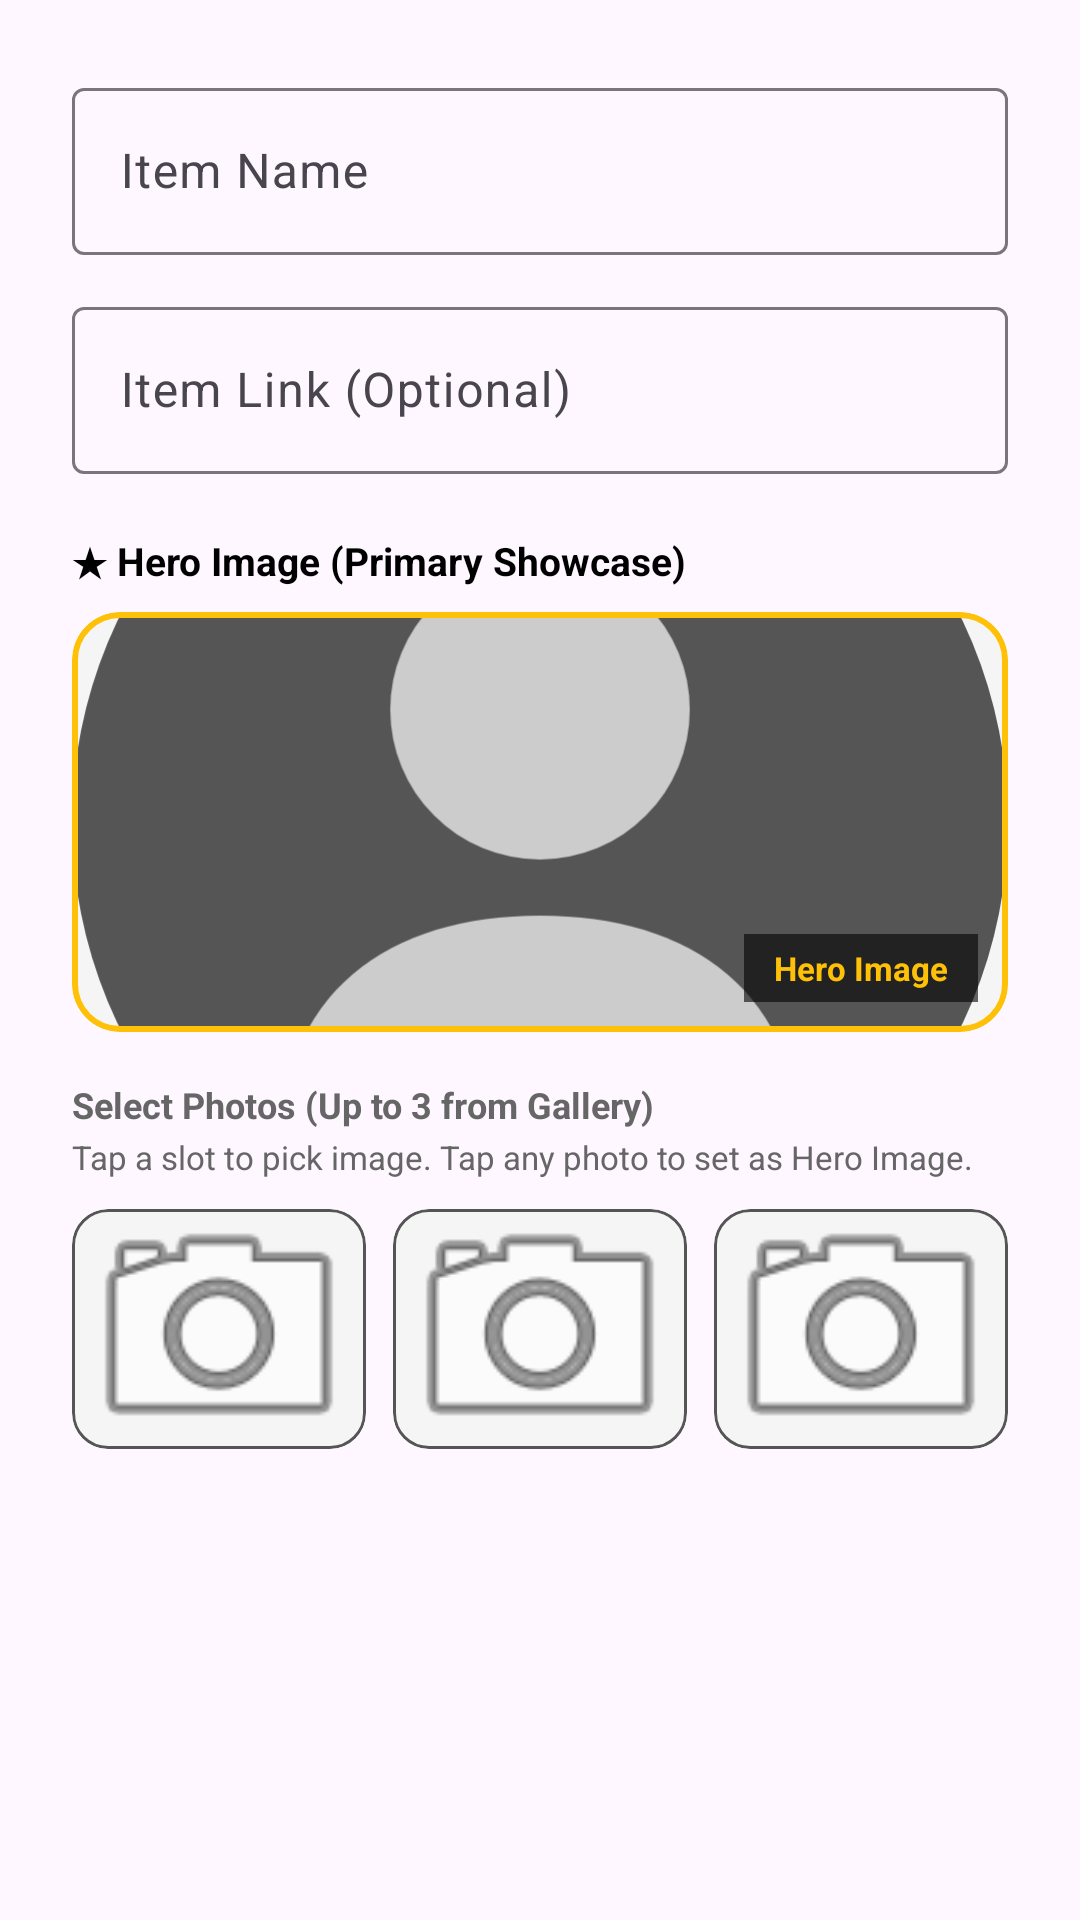

Icon click points for this 1080px×1920px phone screenshot, format [x,y]:
camera: [219,1329], [540,1329], [861,1329]
